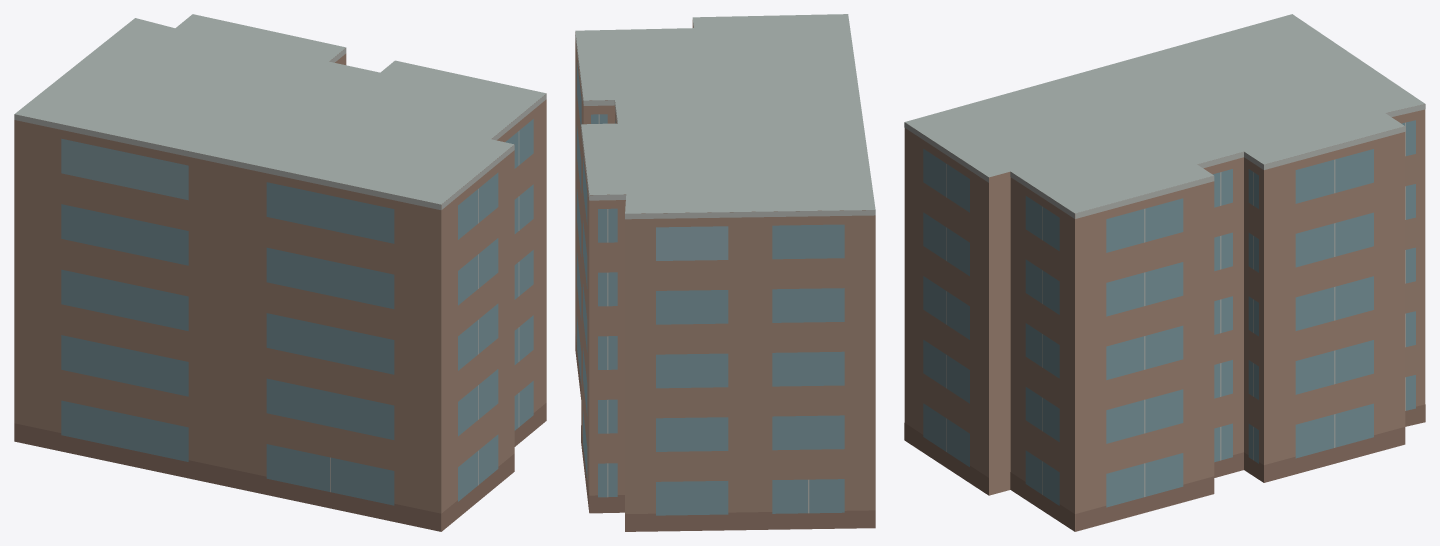
Rendered from survey-upis-32618389.glb.
The picture shows the model from 3 angles, left to right: view 1: azimuth 30°, elevation 25°; view 2: azimuth 150°, elevation 25°; view 3: azimuth 270°, elevation 25°; orthographic projection. The views are drawn at different scales.
Visible parts, largest first — view 1: survey-upis-32618389.tmp; view 2: survey-upis-32618389.tmp; view 3: survey-upis-32618389.tmp.
Boxes of the visible parts, box(x1,y1,x2,y2) form: survey-upis-32618389.tmp: box(14, 14, 546, 531); survey-upis-32618389.tmp: box(575, 14, 875, 531); survey-upis-32618389.tmp: box(904, 14, 1425, 531).
Size of the model in its own units: 18.84 by 14 by 20.78.
